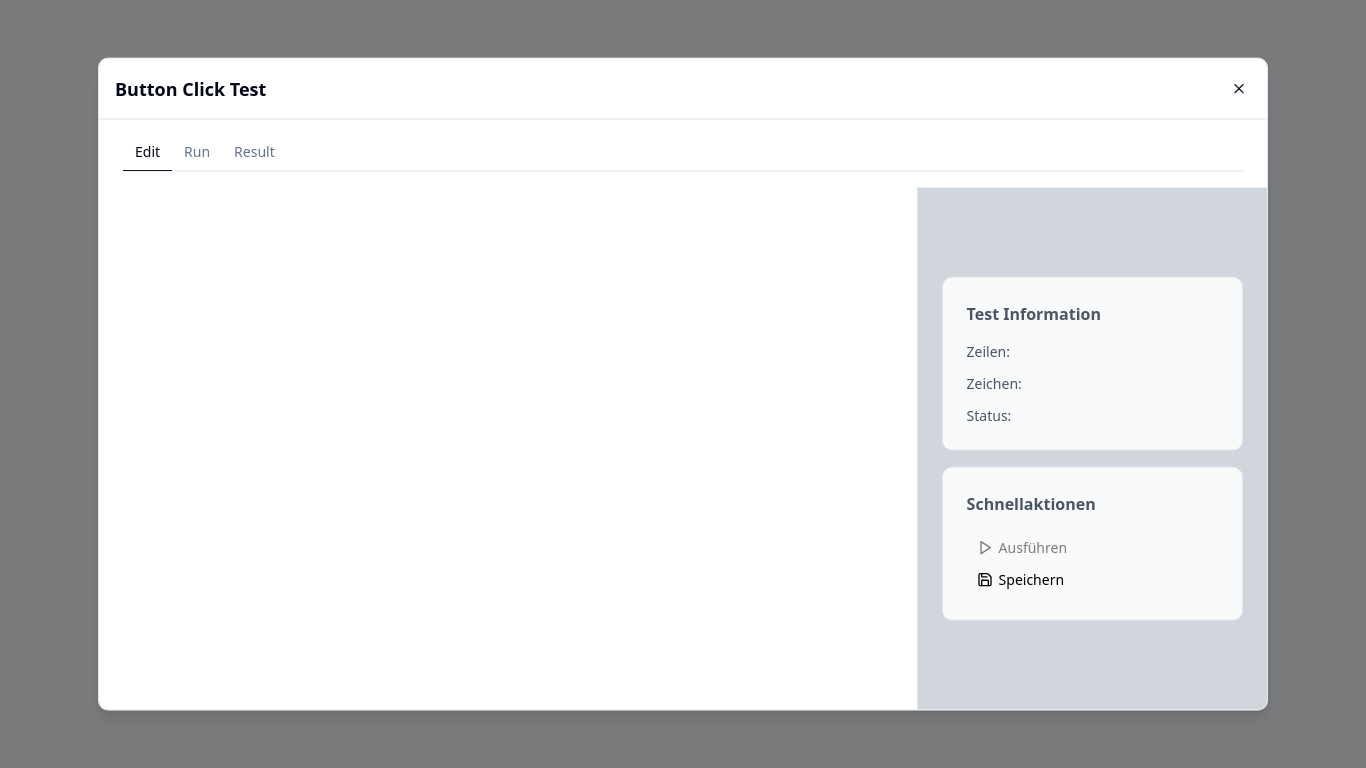
Test: RunWindow › changes activeTab when switching between tabs
Switch to Run
What coordinates should you click on to do the following:
click the tab "Run"
I would click on:
 (197, 152)
Its box is [172,136,222,168].
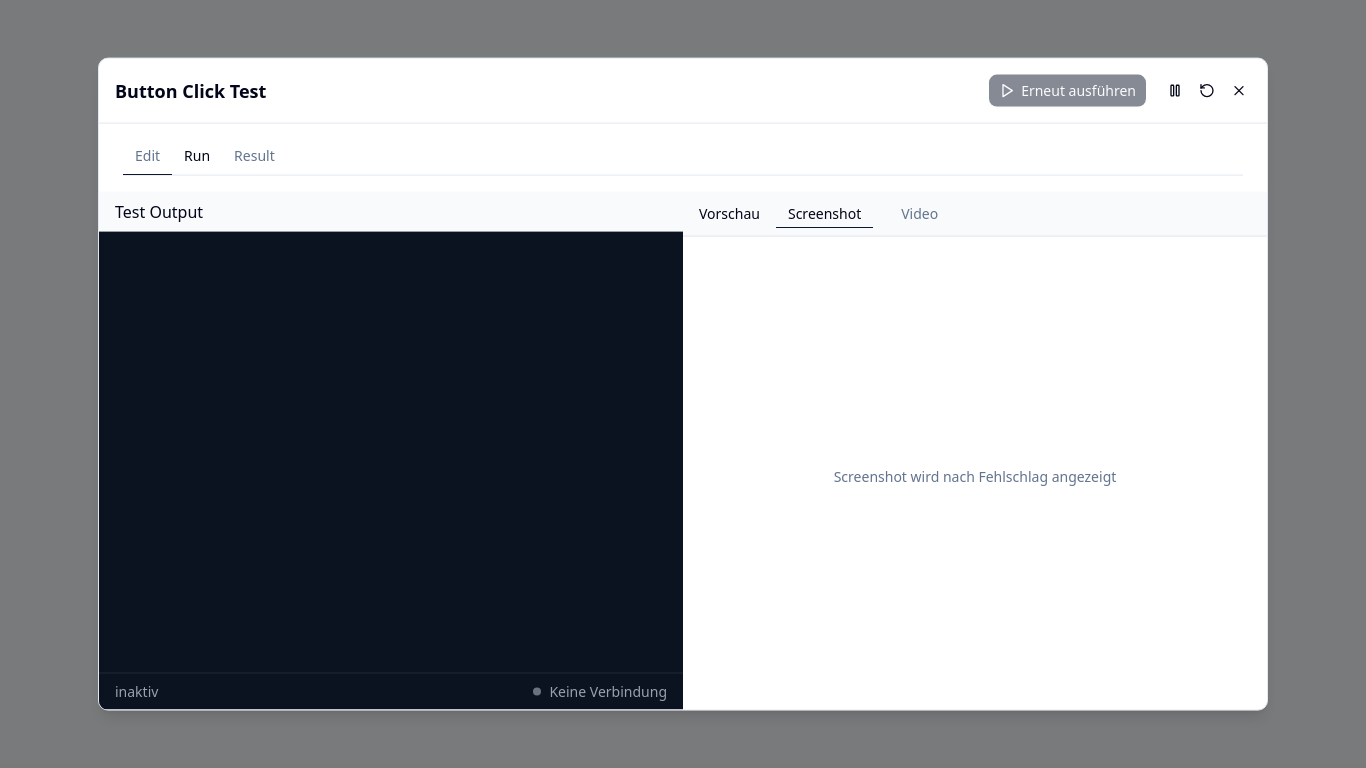
Now the element with class "grid-cols-2" is shown, box [99,192,1267,709]
Switch back to Edit
What coordinates should you click on to do the following:
click the tab "Edit"
I would click on:
 (148, 156)
Its box is [123,140,172,172].
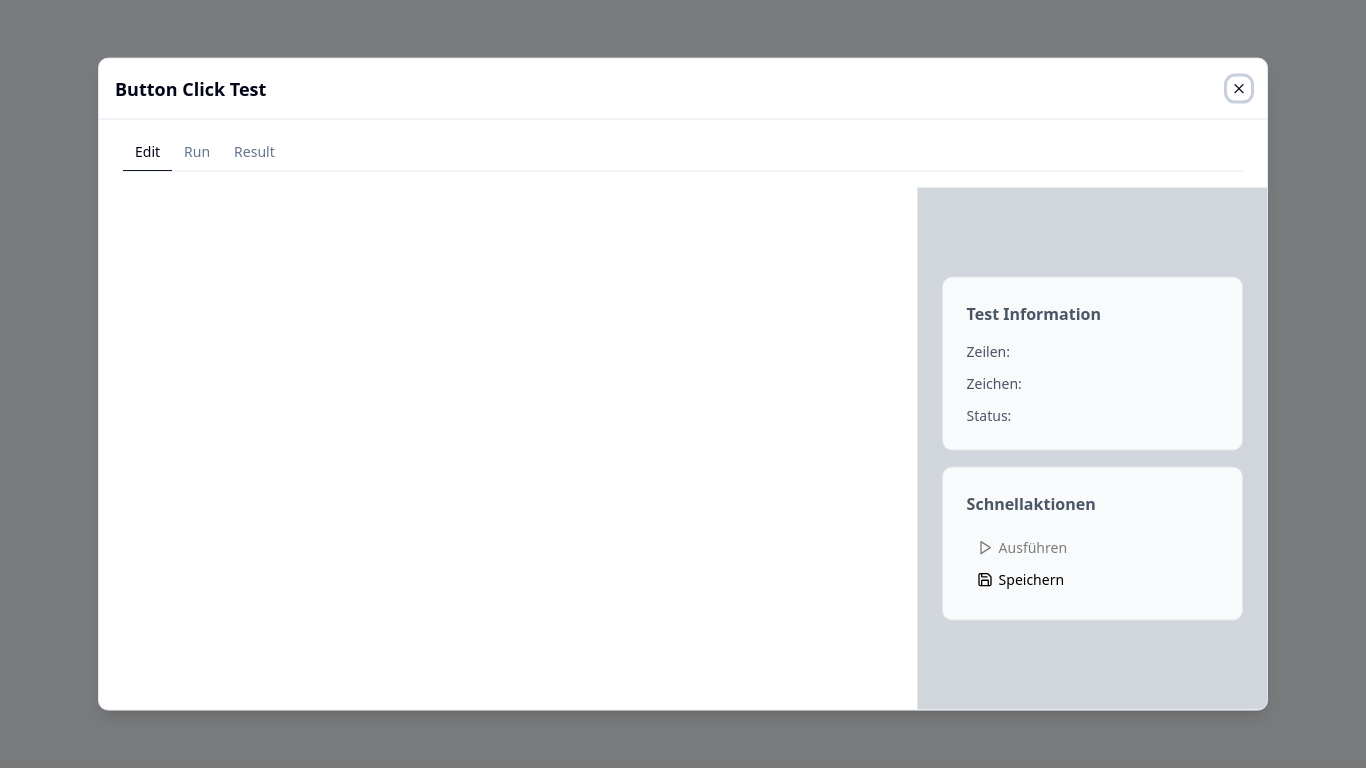
Now the element that starts with "Test Information" is shown, box [917,188,1267,709]
